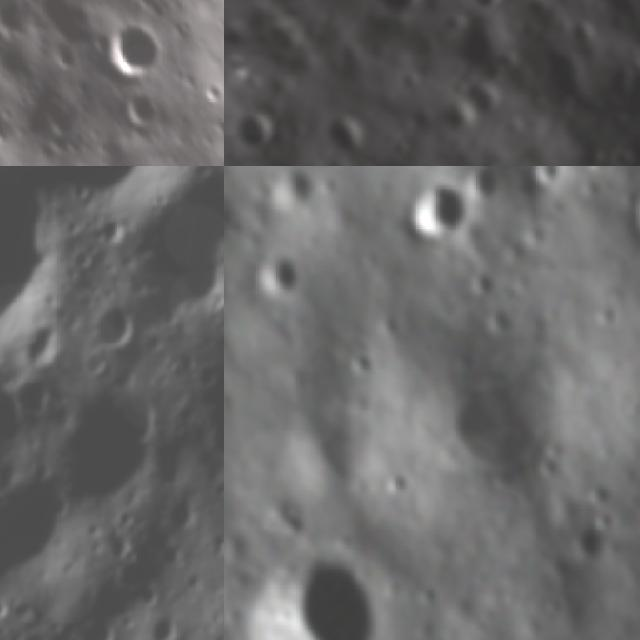crater: (419, 349, 556, 495), (57, 371, 182, 514), (0, 166, 81, 383), (0, 458, 96, 600), (248, 550, 382, 640), (510, 28, 610, 128), (10, 166, 184, 221), (80, 0, 177, 97), (281, 403, 365, 490), (299, 93, 385, 166), (402, 175, 476, 249), (224, 91, 291, 166), (340, 0, 441, 40), (109, 77, 170, 137), (258, 166, 321, 224), (83, 296, 141, 357), (453, 65, 512, 123), (254, 247, 308, 307), (8, 366, 63, 421), (564, 520, 618, 574), (90, 207, 136, 255), (193, 398, 224, 469), (139, 606, 188, 640), (485, 0, 601, 13), (622, 172, 640, 252), (456, 0, 510, 21), (526, 166, 570, 188), (463, 149, 515, 166), (0, 98, 14, 152), (566, 627, 612, 640)
